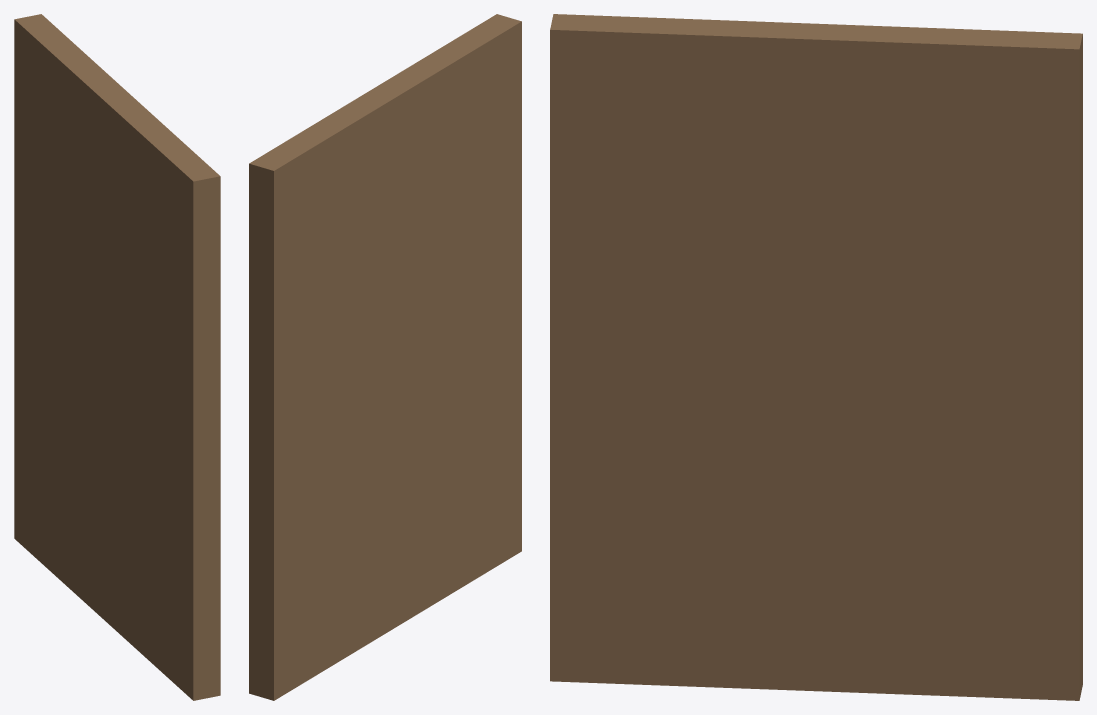
The model's file is HeroDoorHinge.glb.
3 views of the same model, side by side, from view 1: azimuth 30°, elevation 25°; view 2: azimuth 150°, elevation 25°; view 3: azimuth 270°, elevation 25° (orthographic). The views are drawn at different scales.
Parts seen in each view (by area): view 1: HeroDoorPanel; view 2: HeroDoorPanel; view 3: HeroDoorPanel.
Part boxes in pixels (left/top/right/bottom): HeroDoorPanel: left=14, top=14, right=220, bottom=700; HeroDoorPanel: left=249, top=14, right=521, bottom=700; HeroDoorPanel: left=550, top=14, right=1082, bottom=700.
Size of the model in its own units: 0.2677 by 2.3 by 1.7.
